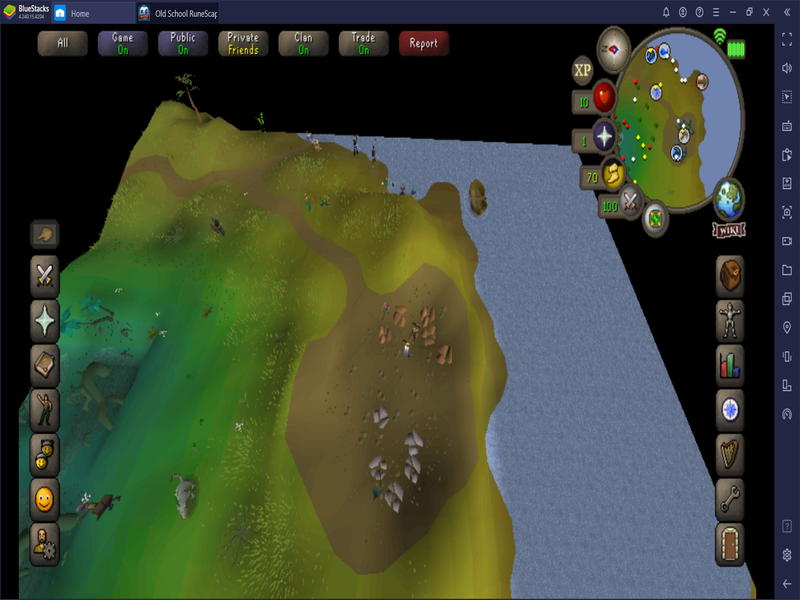copper_rock_1: (377, 324, 393, 347)
copper_rock_2: (391, 303, 407, 329)
